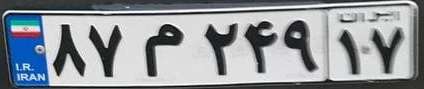character: (137, 19, 189, 82), (197, 16, 242, 82), (280, 13, 324, 79), (85, 18, 132, 79), (47, 18, 89, 82), (239, 17, 282, 79), (368, 21, 407, 78), (334, 23, 364, 78)
